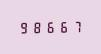eight: (31, 20, 43, 34)
nine: (18, 20, 30, 34)
seven: (70, 19, 82, 33)
six: (57, 19, 69, 33), (44, 20, 56, 33)
